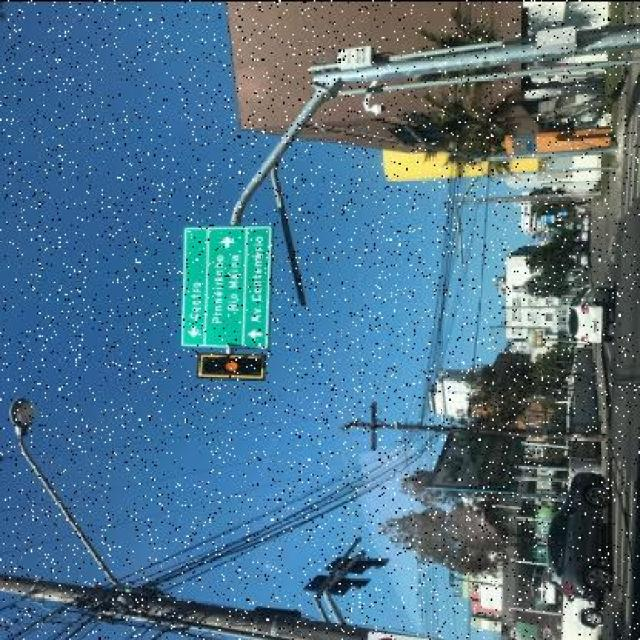yellow-light: (183, 352, 290, 388)
